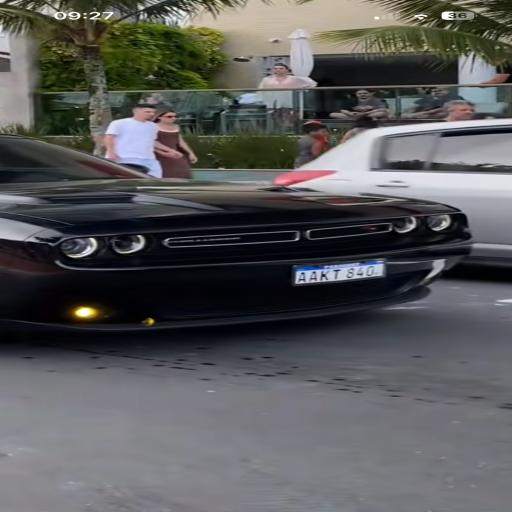detec-o-placas: (198, 241, 488, 306)
